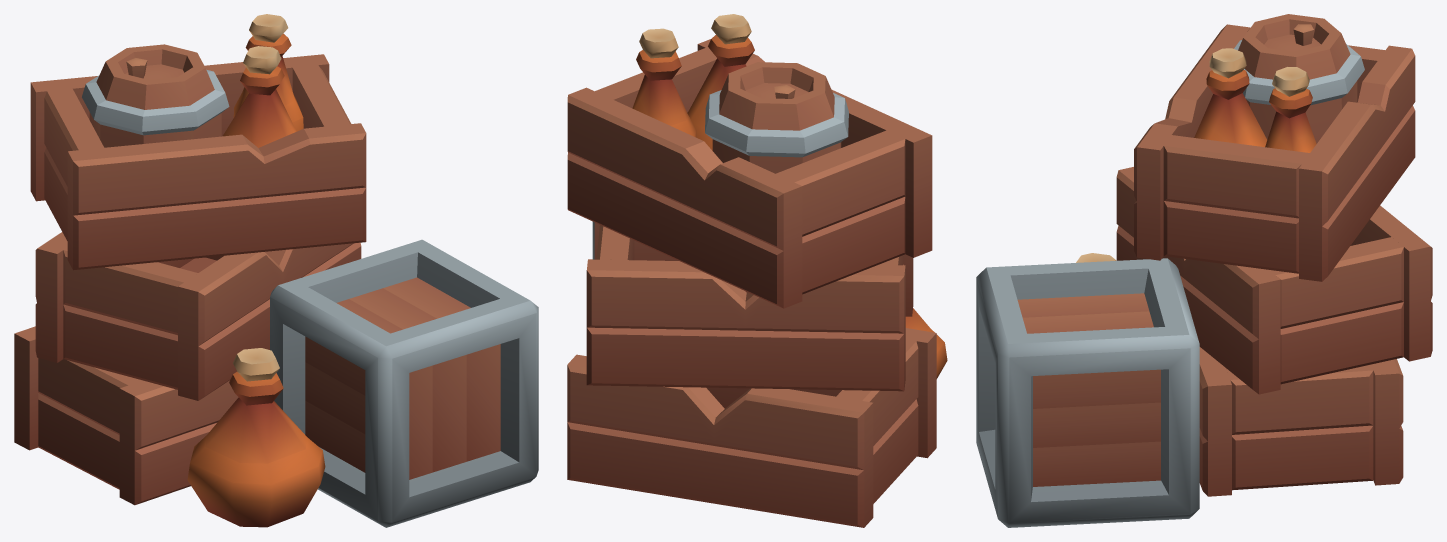
The model's file is crates_stacked.glb.
The picture shows the model from 3 angles, left to right: view 1: azimuth 30°, elevation 25°; view 2: azimuth 150°, elevation 25°; view 3: azimuth 270°, elevation 25°; orthographic projection. The views are drawn at different scales.
Bounding box in the file's own units: 2.09 × 2.14 × 2.25.
Materials: 1 (1 with a texture image).
